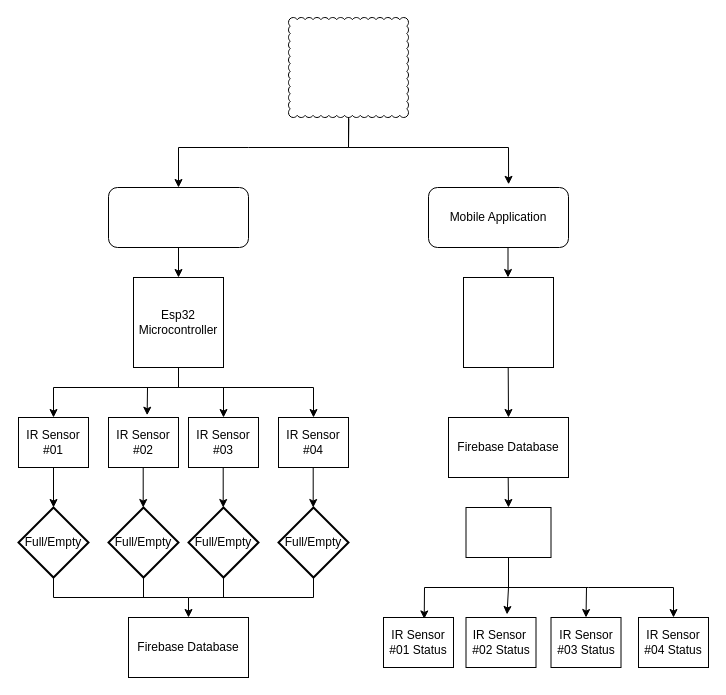
This 726x695 diagram has some shape labels left out. Here are the shapes that lost their labels. From the top down, the centre of each, then its label:
the point at 348,67: IoT Parking System
the point at 178,217: Embedded
the point at 508,322: Flutter
the point at 508,532: SignUp/Login
